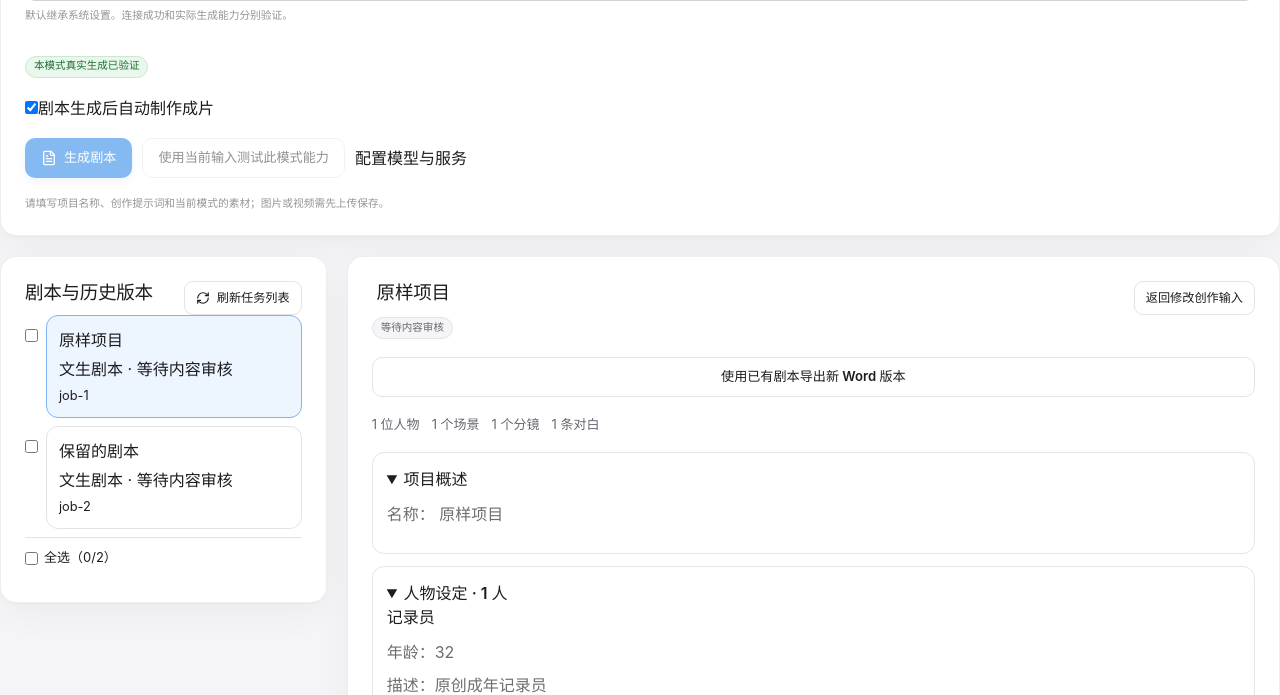
Scenario: updates only the deleted history job after files_failed
(page scrolled)
Expected: the heading "原样项目" is shown, [372, 281, 455, 305]
Step 1. Click the checkbox named "选择任务 原样项目" → (32, 336), box [25, 329, 38, 342]
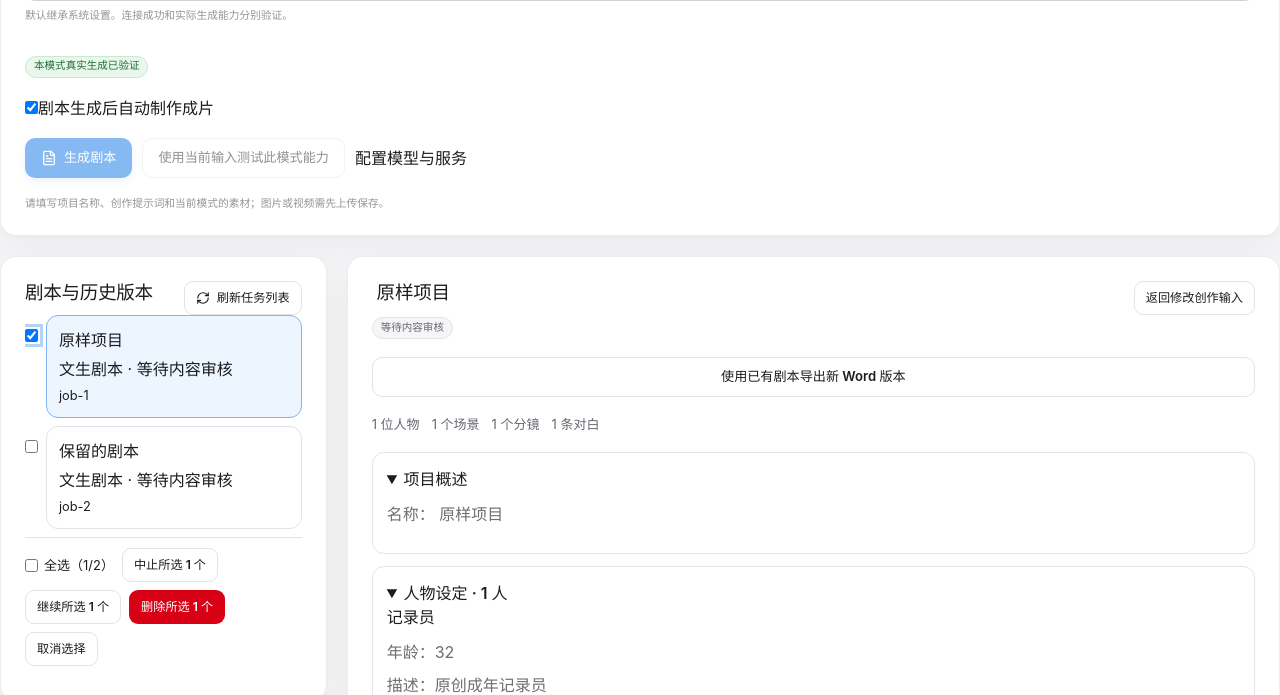
Step 2. Click the button "删除所选 1 个" → (177, 607), box [129, 590, 225, 624]
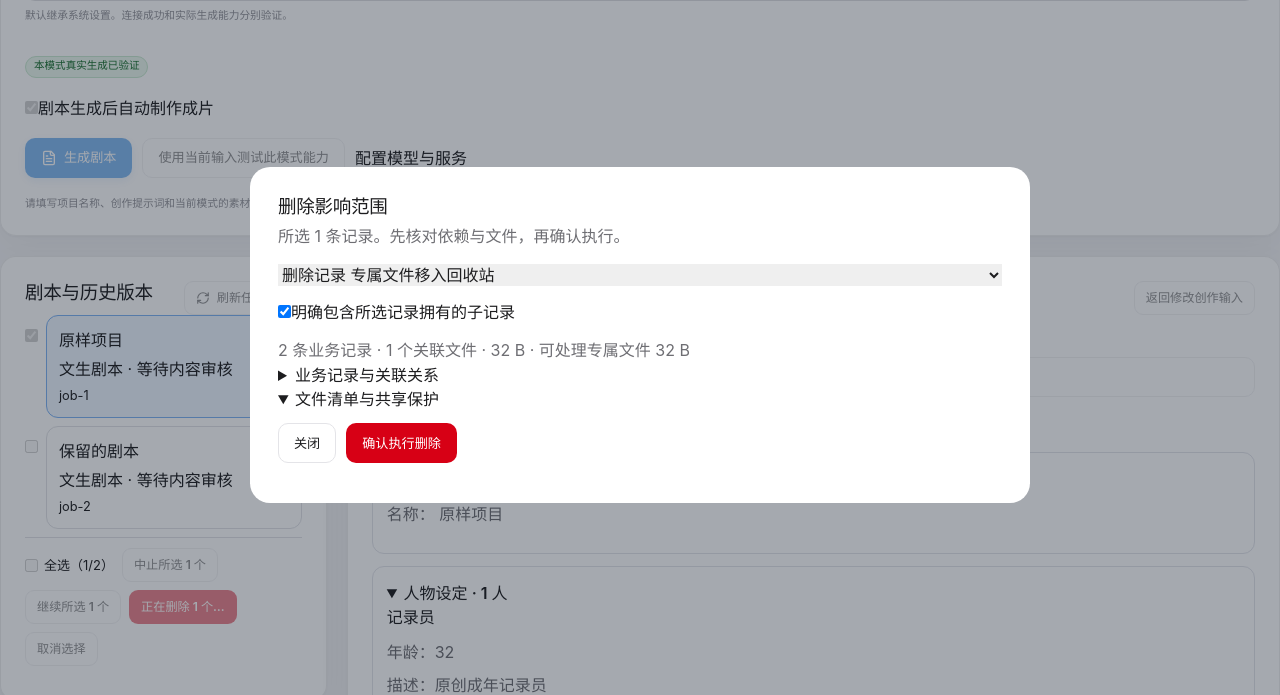
Expected: the dialog "删除影响范围" is shown, [250, 166, 1030, 503]
Expected: the dropdown named "文件删除模式" shows "删除记录 专属文件移入回收站", [278, 264, 1002, 286]
Expected: the checkbox labelled "明确包含所选记录拥有的子记录" is checked, [278, 305, 291, 318]
Step 3. Click the button "确认执行删除" → (402, 444), box [346, 424, 457, 464]
(page scrolled)
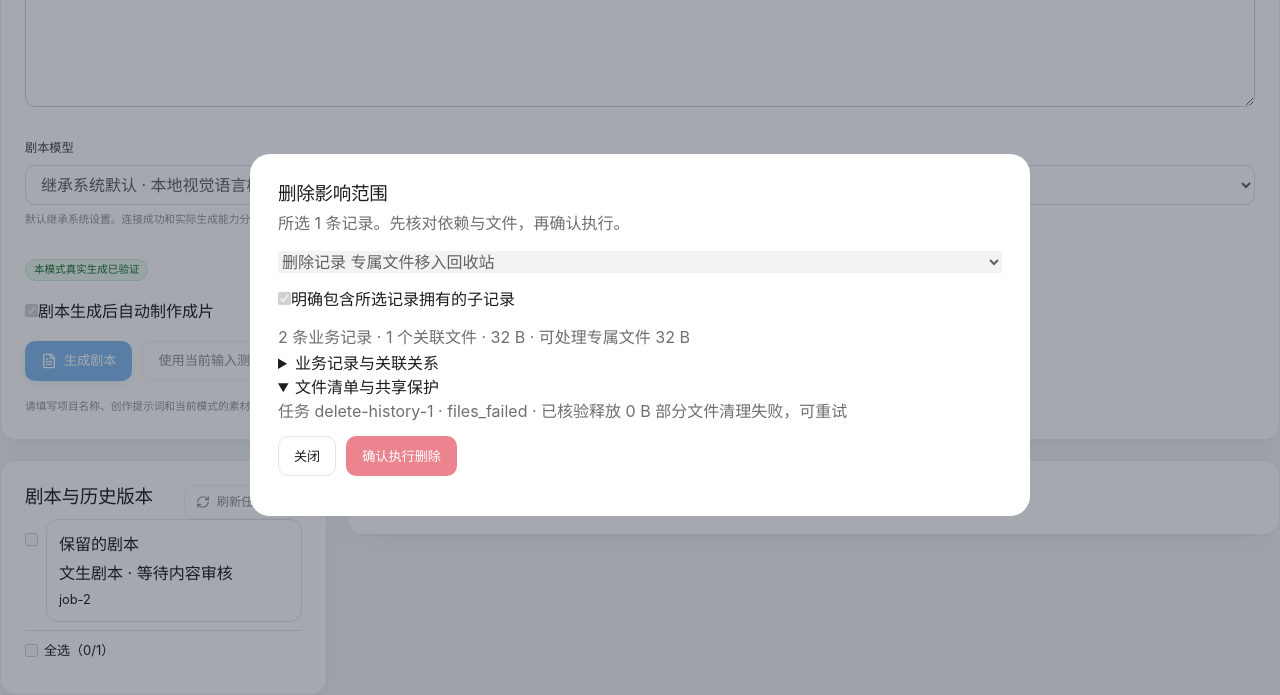
Expected: the checkbox named "选择任务 保留的剧本" is not checked, [25, 533, 38, 546]
Expected: the button "原样项目" is gone
Expected: the message shows "部分文件清理失败，可重试", [655, 401, 847, 421]
